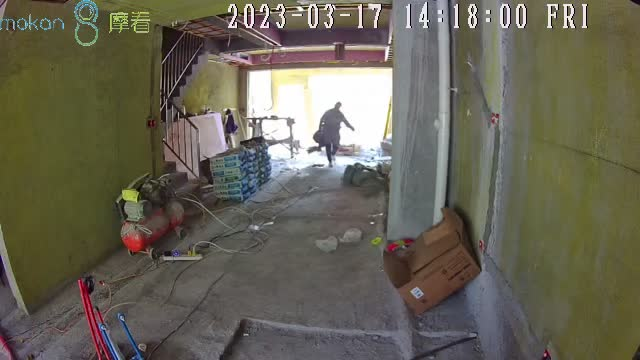people: (319, 102, 353, 166)
window: (248, 70, 391, 144)
